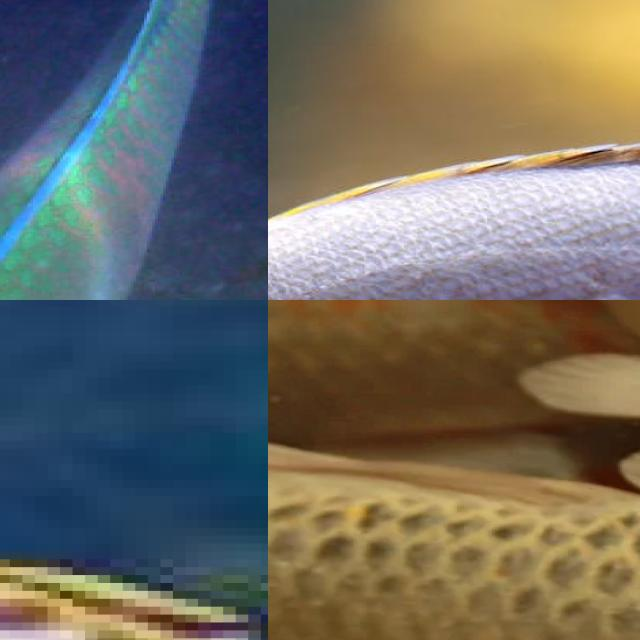fish: (0, 0, 268, 300), (0, 425, 268, 640)
